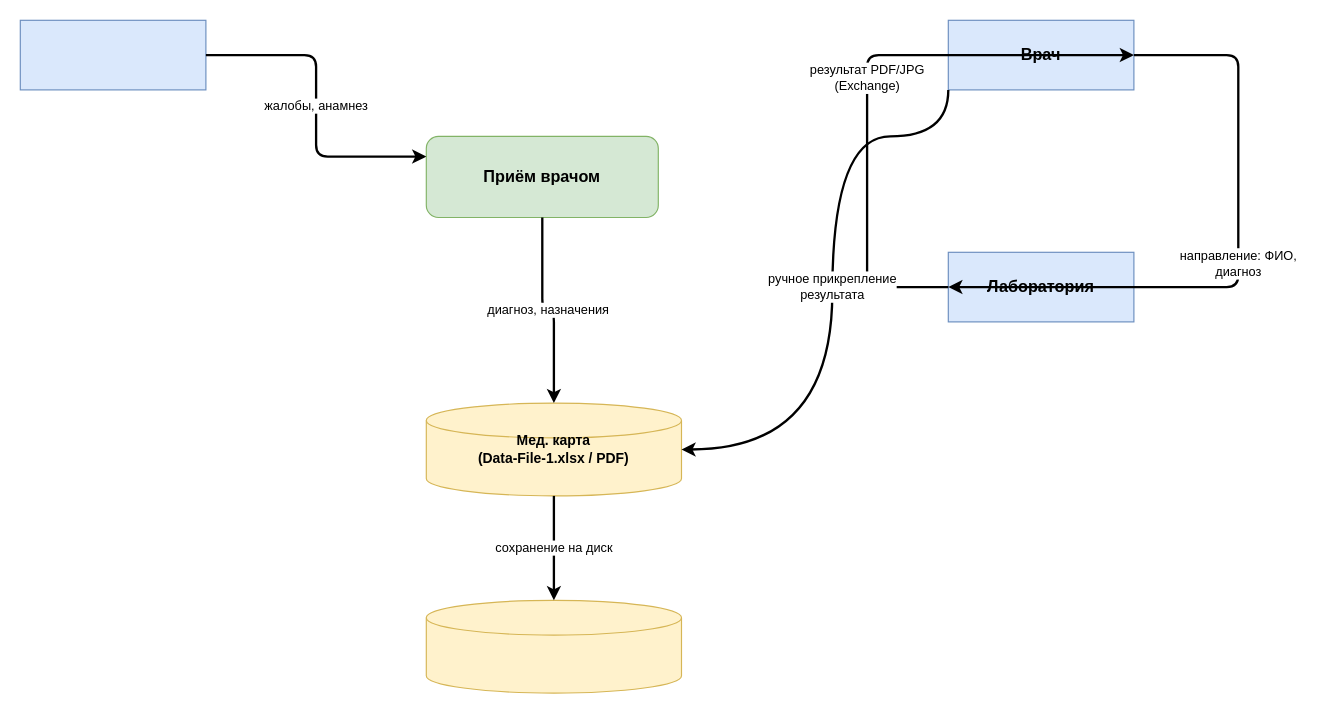
Image size: 1317x713. Some labels were removed from this diagram. The shapes that lost their labels are listed below. From the top down, each one's centre as x and y in pixels, then its label:
point 112,54: Пациент
point 553,646: Общий диск / Patients/
